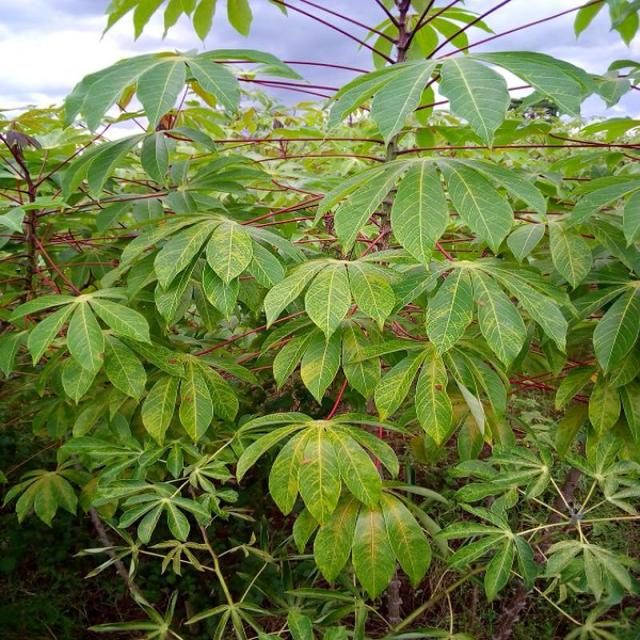cassava leaf: (4, 9, 638, 622), (390, 156, 450, 268)
